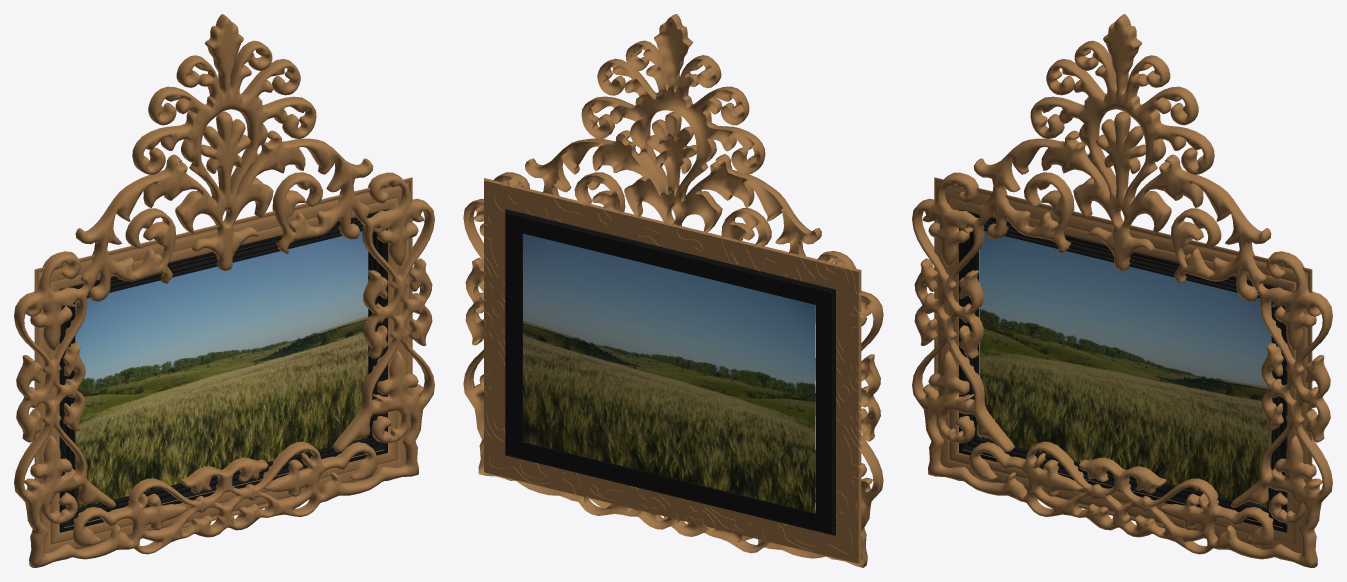
The model's file is guahauthree.FBX.
3 views of the same model, side by side, from view 1: azimuth 30°, elevation 25°; view 2: azimuth 150°, elevation 25°; view 3: azimuth 330°, elevation 25° (orthographic).
Visible parts, largest first — view 1: 3d侠模型免费下载-画框; view 2: 3d侠模型免费下载-画框; view 3: 3d侠模型免费下载-画框.
Part boxes in pixels (x1=…): 3d侠模型免费下载-画框: x1=14, y1=14, x2=434, y2=567; 3d侠模型免费下载-画框: x1=463, y1=14, x2=883, y2=567; 3d侠模型免费下载-画框: x1=912, y1=14, x2=1332, y2=567.
Size of the model in its own units: 594 by 706 by 20.62.
